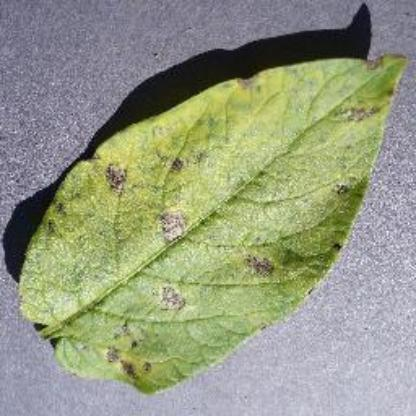Early-Blight: (15, 42, 411, 396)
